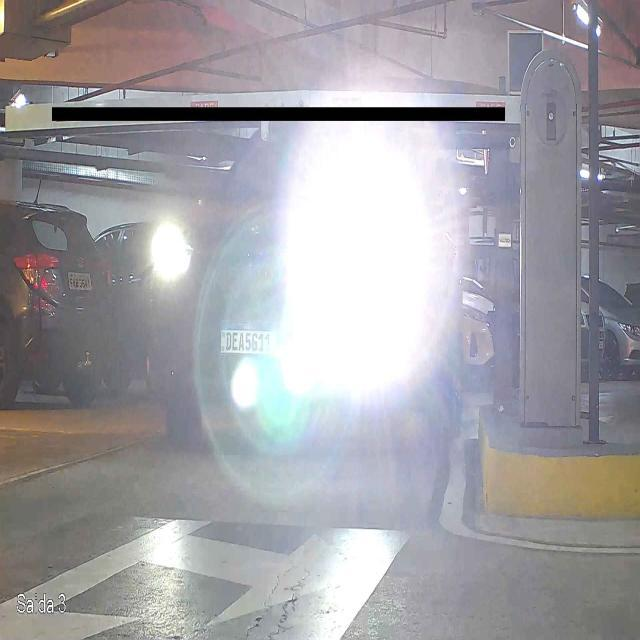mercosul_plate: (216, 319, 285, 358)
